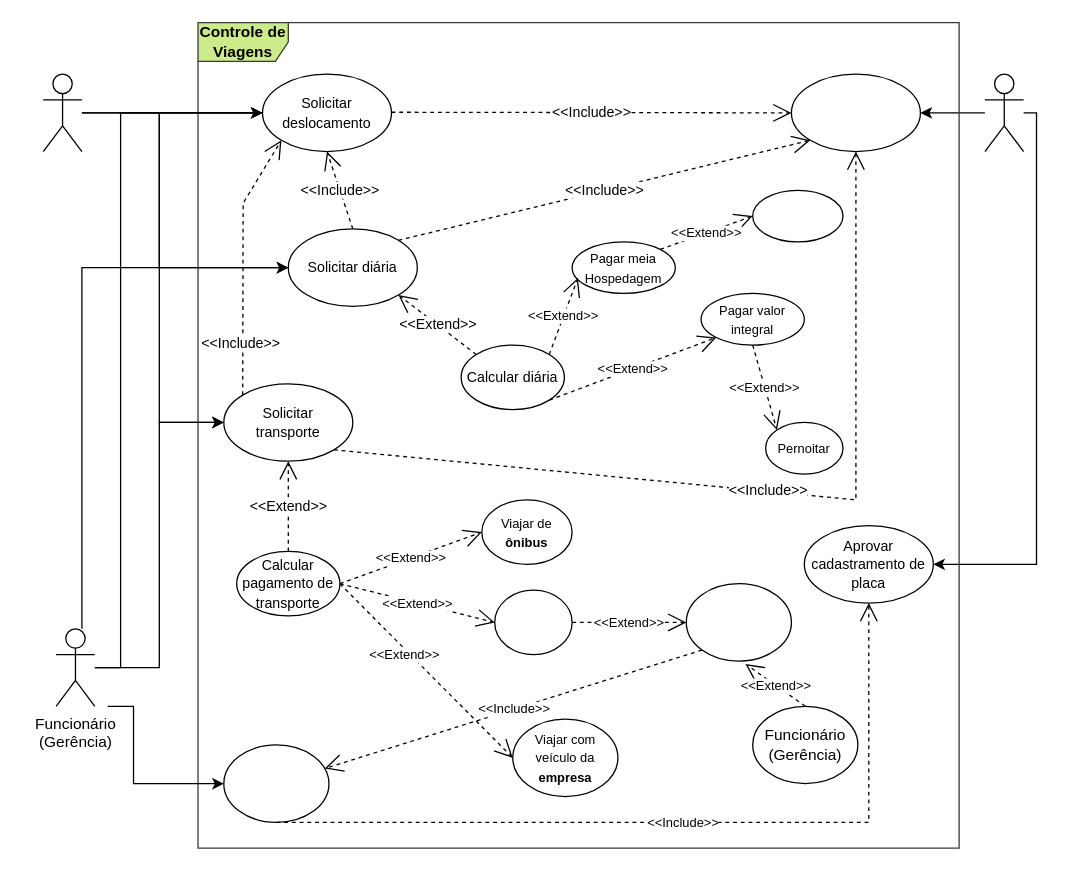
This 1069x871 diagram has some shape labels left out. Each missing label, with the box of its shape:
Aprovar pedido de deslocamento: (790, 73, 920, 152)
Cadastrar placa: (223, 744, 329, 822)
Funcionário: (42, 73, 82, 152)
Gestor: (984, 73, 1024, 152)
Pagar por km rodado: (493, 589, 572, 655)
Retornar no mesmo dia: (751, 189, 843, 242)
Viajar com veículo próprio: (685, 582, 791, 661)
